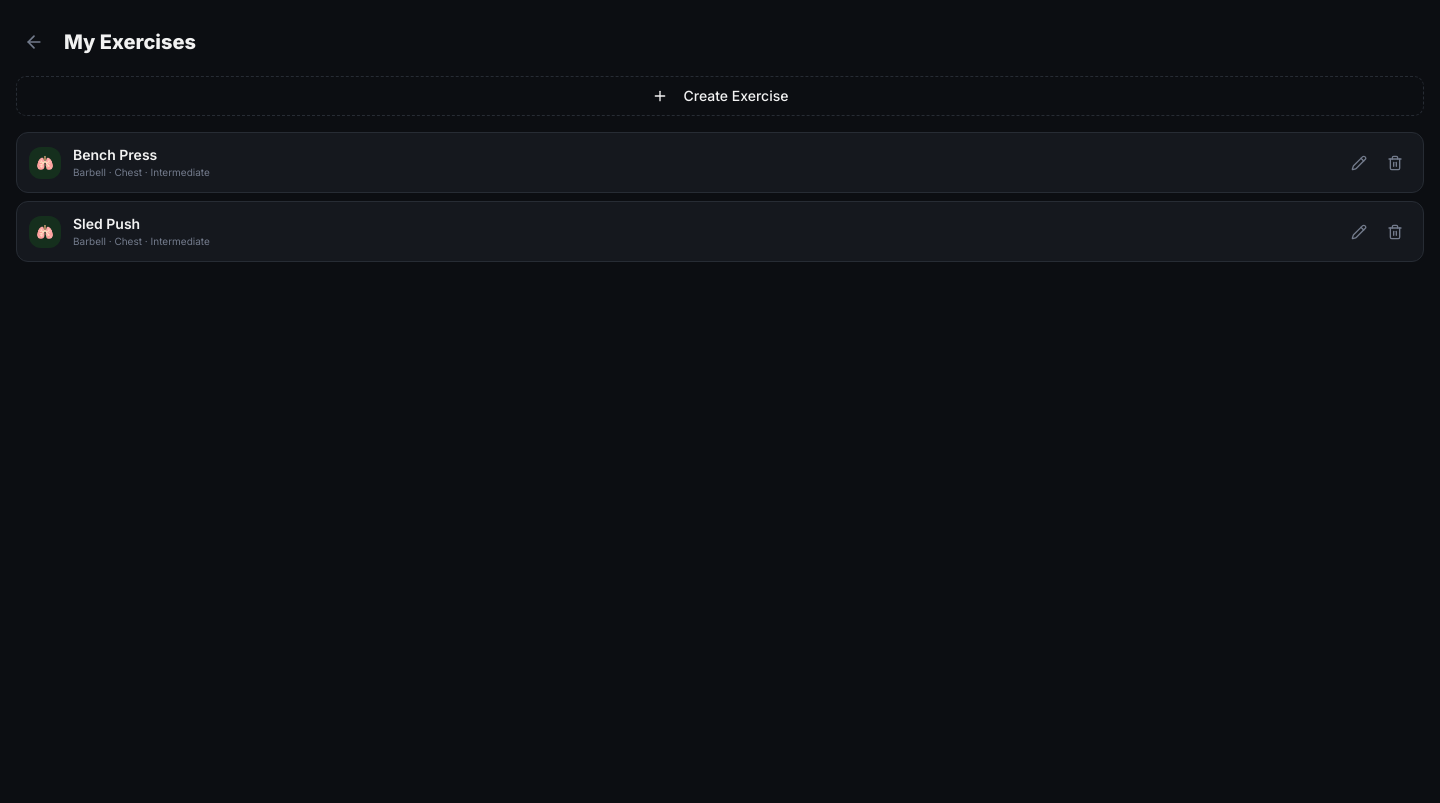
Scenario: editing a custom exercise › scrolls to the form when a new exercise is created too
Click the button "Create Exercise" at (720, 96), box top-left (16, 76), bottom-right (1424, 116)
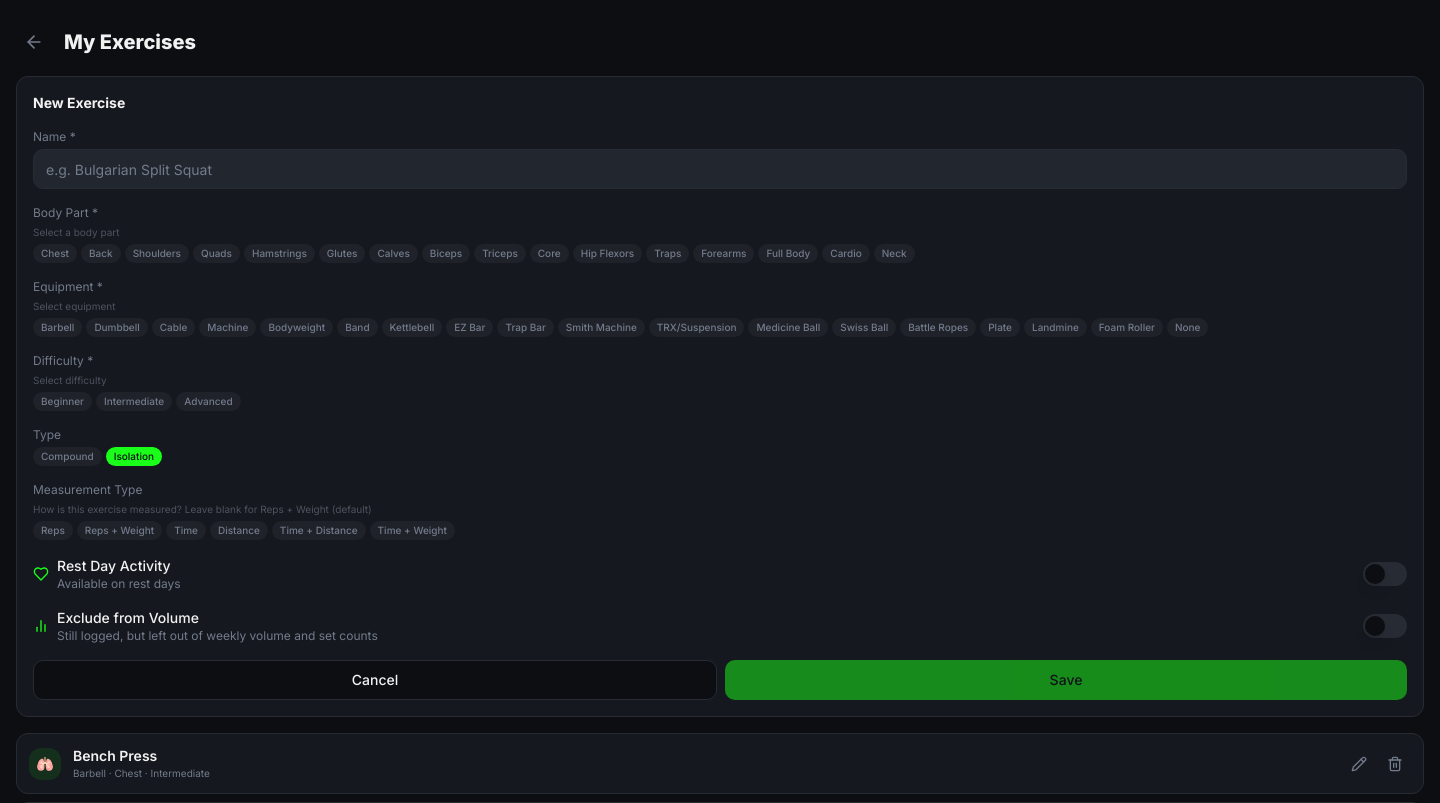
expect the text "New Exercise" is shown: met, box top-left (33, 94), bottom-right (125, 111)
